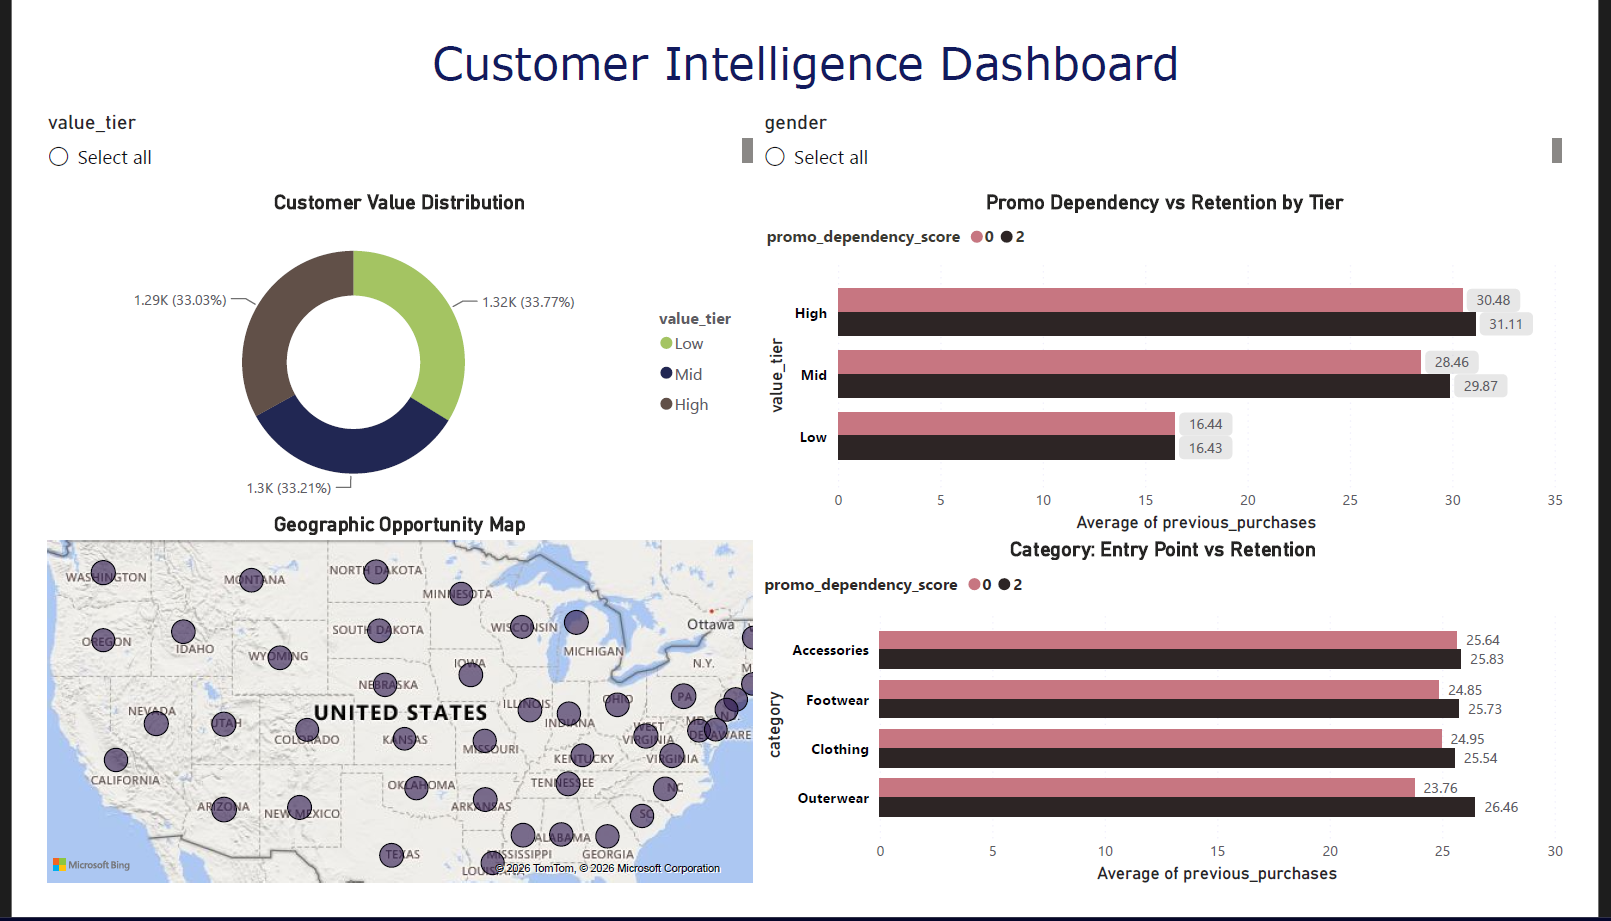

The dashboard page shown, as its layout file describes it:
{"tool":"powerbi","page":{"name":"Page 1","canvas":[1280,720],"ordinal":0},"visuals":[{"type":"pieChart","title":"Customer Value Distribution","fields":{"Category":["analytic_project customer.value_tier"],"Y":["Avg(analytic_project customer.previous_purchases)"]},"box":[0,135,600,291],"z":0},{"type":"clusteredBarChart","title":"Promo Dependency vs Retention by Tier","fields":{"Category":["analytic_project customer.value_tier"],"Y":["Avg(analytic_project customer.previous_purchases)"],"Series":["analytic_project customer.promo_dependency_score"]},"box":[602.5,135,677.5,291.2],"z":1000},{"type":"map","title":"Geographic Opportunity Map","fields":{"Category":["analytic_project customer.location"],"Size":["Avg(analytic_project customer.purchase_amount_usd)"]},"box":[1,426,600,294],"z":2000},{"type":"clusteredBarChart","title":"Category: Entry Point vs Retention","fields":{"Category":["analytic_project customer.category"],"Y":["Avg(analytic_project customer.previous_purchases)"],"Series":["analytic_project customer.promo_dependency_score"]},"box":[601.2,426.2,678.8,293.8],"z":3000},{"type":"listSlicer","fields":{"Values":["analytic_project customer.value_tier"]},"box":[1.2,67.5,600,67.5],"z":4000},{"type":"listSlicer","fields":{"Values":["analytic_project customer.gender"]},"box":[601.2,67.5,677.5,67.5],"z":5000},{"type":"textbox","box":[1.2,0,1277.5,56.2],"z":6000}]}

Visuals, with their boxes in screenshot pixels (x1, y1, x2, y2), scaled from the page's 1280x720 canvas onto the 1611x921 screenshot:
"Customer Value Distribution" pieChart: x1=0 y1=173 x2=755 y2=545
"Promo Dependency vs Retention by Tier" clusteredBarChart: x1=758 y1=173 x2=1610 y2=545
"Geographic Opportunity Map" map: x1=1 y1=545 x2=756 y2=920
"Category: Entry Point vs Retention" clusteredBarChart: x1=757 y1=545 x2=1610 y2=920
listSlicer - analytic_project customer.value_tier: x1=2 y1=86 x2=757 y2=173
listSlicer - analytic_project customer.gender: x1=757 y1=86 x2=1609 y2=173
textbox: x1=2 y1=0 x2=1609 y2=72
